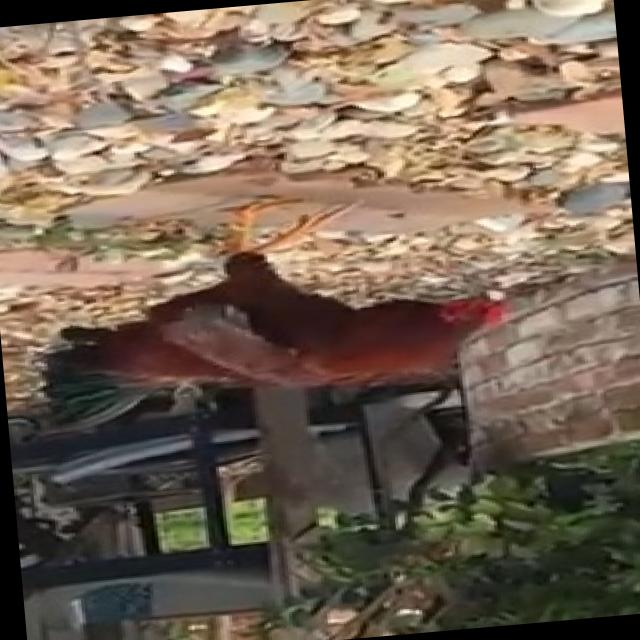wing flap: (0, 167, 552, 438)
